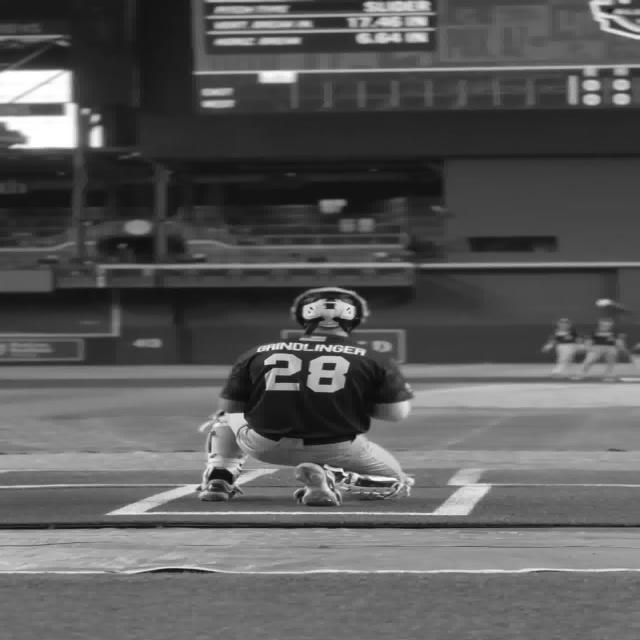baseball: (594, 298, 612, 307)
shoe: (292, 462, 342, 506), (198, 467, 242, 501)
